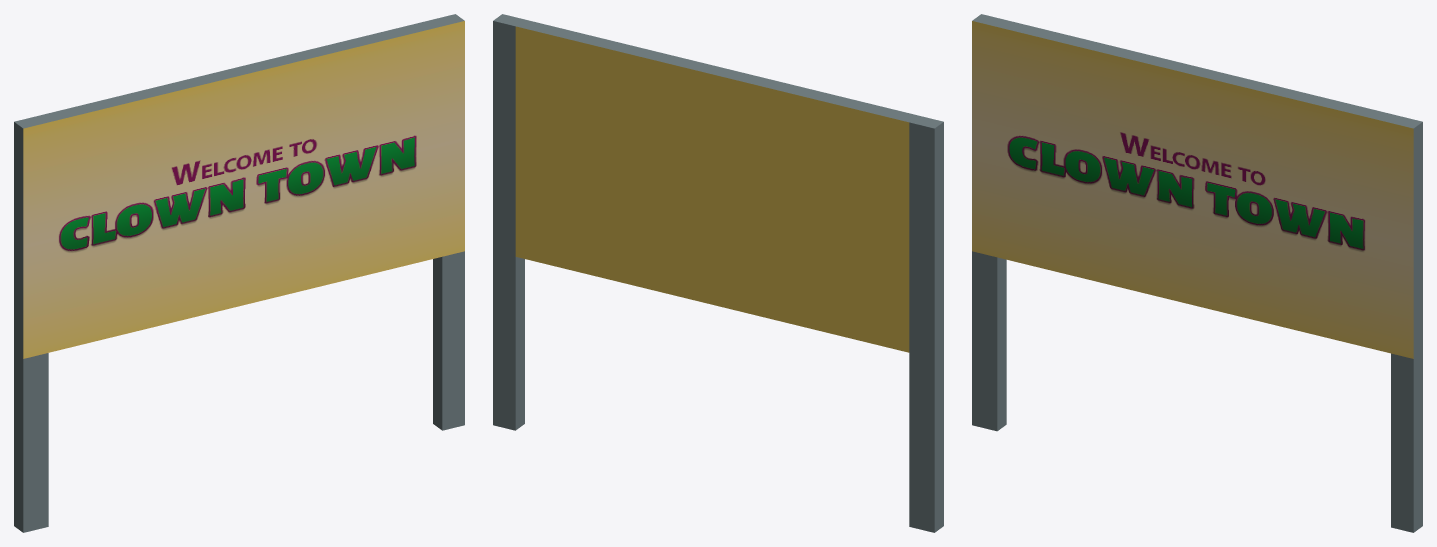
File: Welcome.signV2.fbx
3 views of the same model, side by side, from view 1: azimuth 30°, elevation 25°; view 2: azimuth 150°, elevation 25°; view 3: azimuth 330°, elevation 25° (orthographic).
Visible parts, largest first — view 1: Welcome.sign; view 2: Welcome.sign; view 3: Welcome.sign.
Part boxes in pixels (<box>): Welcome.sign: <box>14,14,464,532</box>; Welcome.sign: <box>493,14,943,532</box>; Welcome.sign: <box>972,14,1422,532</box>.
Bounding box in the file's own units: 659 × 24.22 × 577.
